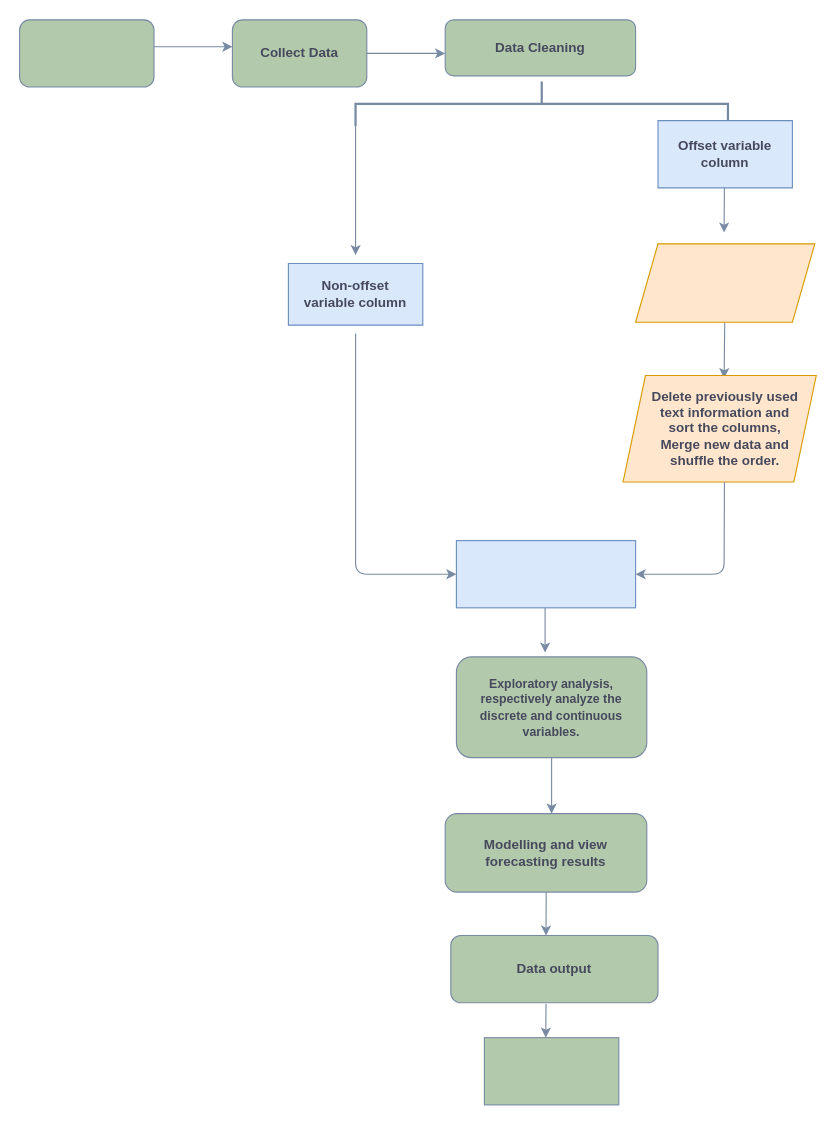
Some shapes in this 837 by 1124 pixel diagram are drawn without their labels. Each missing label, with the box of its shape:
Cleaned Data: (455, 540, 636, 608)
End: (483, 1037, 619, 1105)
Select data with more than 0 reviews, and delete columns with missing values: (634, 243, 815, 322)
Start: (18, 19, 154, 87)
